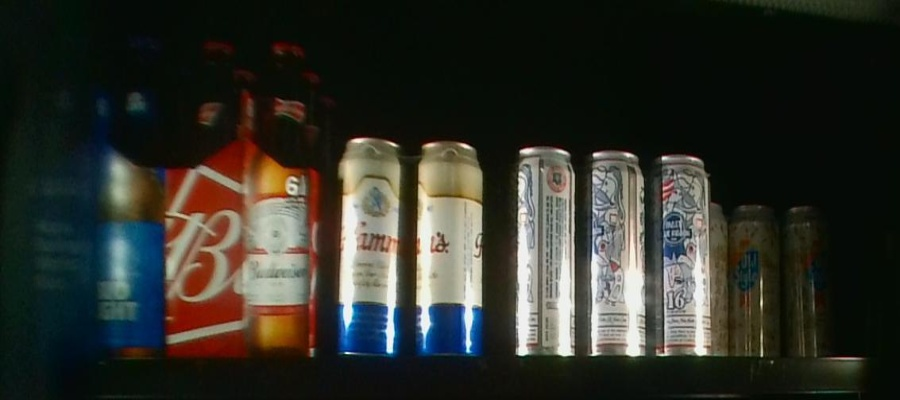bottle: (1, 28, 163, 361), (165, 38, 326, 357), (497, 141, 708, 369), (333, 133, 487, 360), (730, 206, 834, 358), (709, 196, 728, 355)
